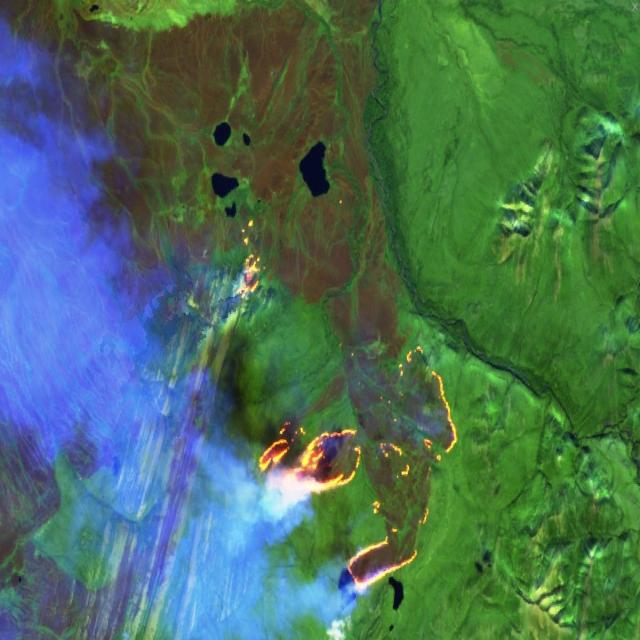fire: (252, 340, 463, 599), (226, 215, 272, 309)
